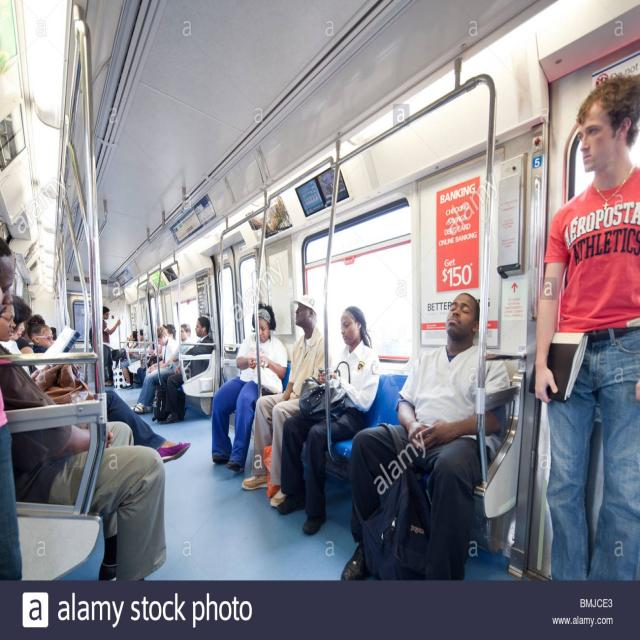body: (0, 233, 170, 580), (532, 71, 640, 578), (340, 292, 509, 581), (0, 290, 192, 467), (273, 301, 384, 536), (242, 292, 332, 508), (210, 300, 288, 474), (0, 231, 81, 385), (152, 316, 212, 423), (0, 386, 32, 581), (130, 323, 193, 415), (143, 324, 180, 412), (118, 326, 149, 392), (102, 305, 121, 387), (136, 342, 163, 390), (111, 328, 139, 369)
